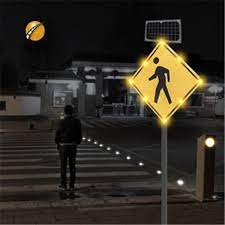pedestrian: (130, 49, 198, 114)
